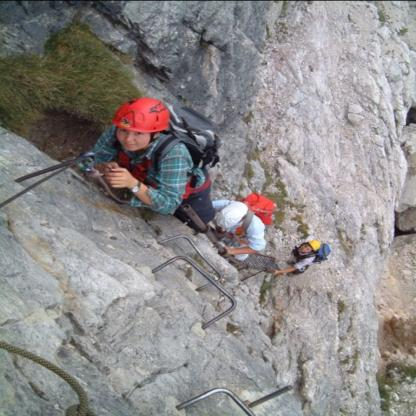Helmet: (108, 95, 166, 140), (305, 238, 322, 251)
